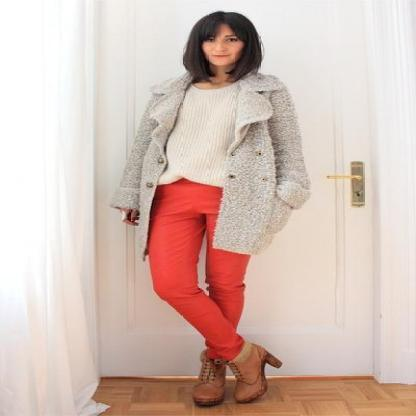jacket: (120, 65, 310, 254), (165, 80, 262, 186)
pants: (126, 178, 250, 357)
shoe: (194, 341, 281, 386)
